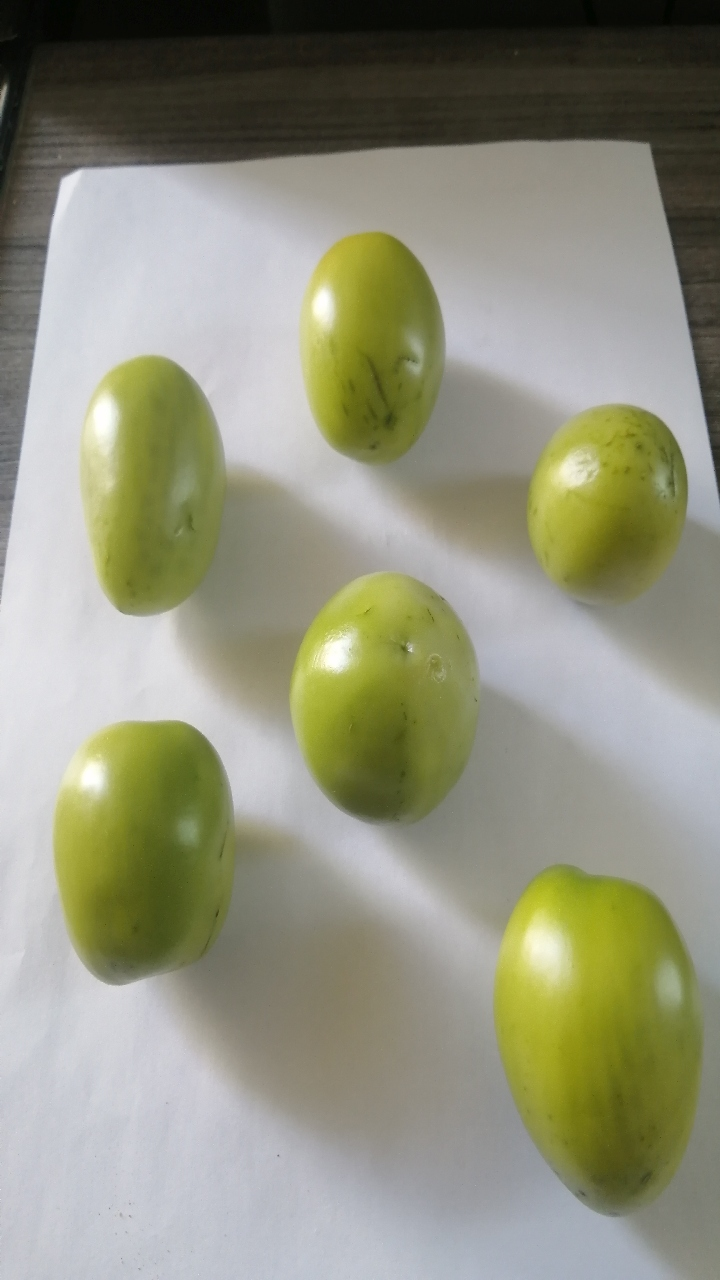tomateVerde: (472, 842, 720, 1237), (255, 551, 508, 859), (255, 208, 477, 514), (26, 700, 229, 1009), (52, 342, 271, 626), (503, 368, 703, 642)
